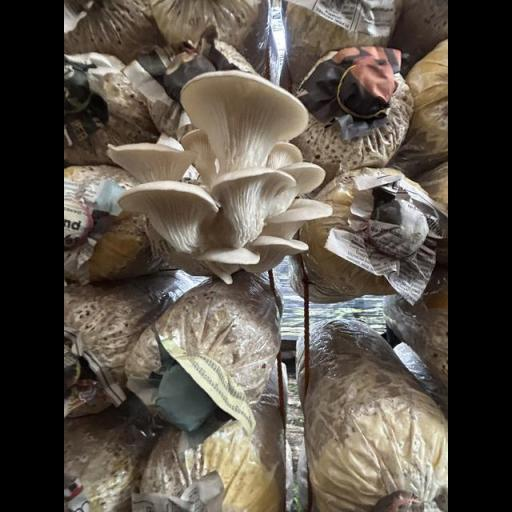White Oyster Mushroom: (100, 67, 355, 284)
